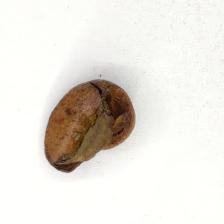NG: (60, 80, 131, 167)
